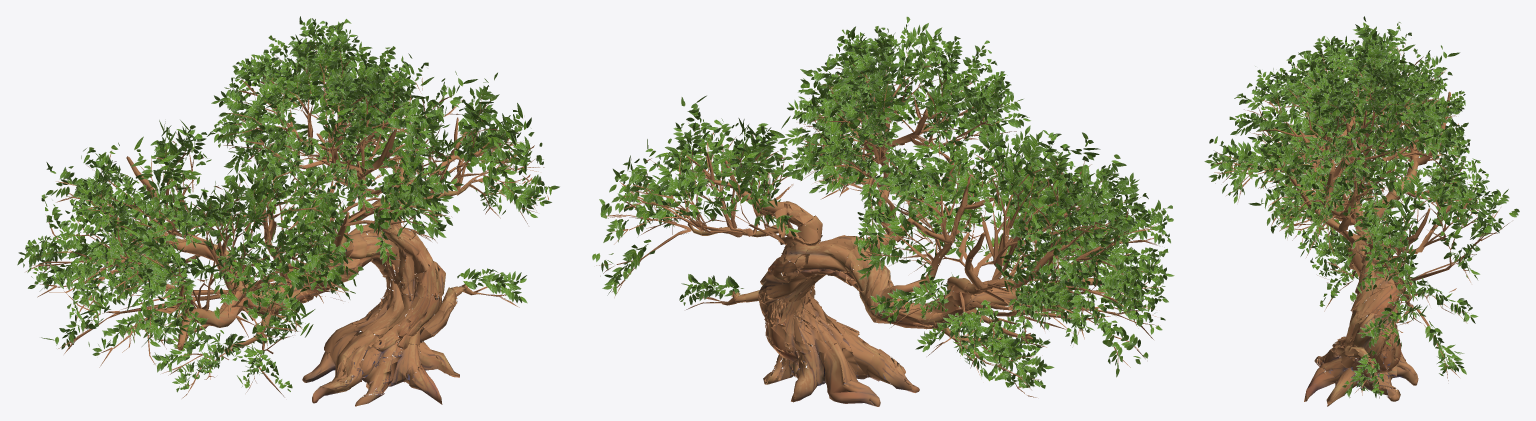
The model's file is arbol_grande.glb.
The picture shows the model from 3 angles, left to right: view 1: azimuth 30°, elevation 25°; view 2: azimuth 150°, elevation 25°; view 3: azimuth 270°, elevation 25°; orthographic projection. The views are drawn at different scales.
Visible parts, largest first — view 1: arbolGrande; view 2: arbolGrande; view 3: arbolGrande.
Part boxes in pixels (x1,y1,x2,y2): arbolGrande: (17,16,559,406); arbolGrande: (592,16,1174,406); arbolGrande: (1204,16,1519,406).
Size of the model in its own units: 1278 by 881 by 761.
Materials: 1 (1 with a texture image).
